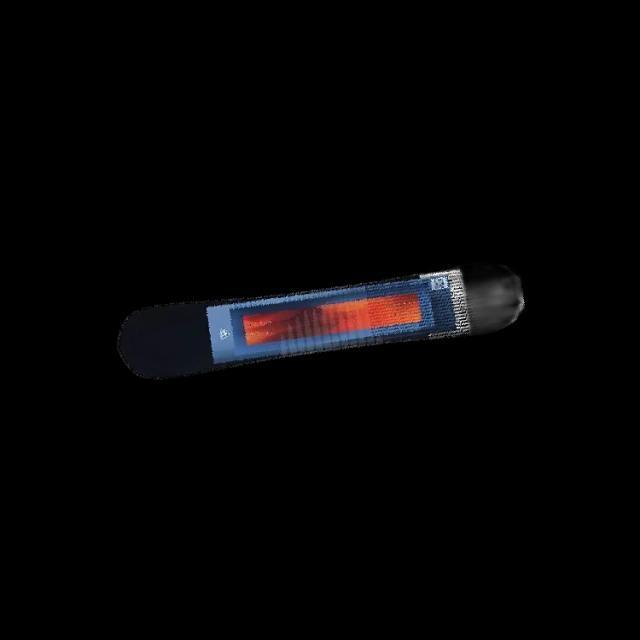Snowboard: (115, 260, 525, 381)
